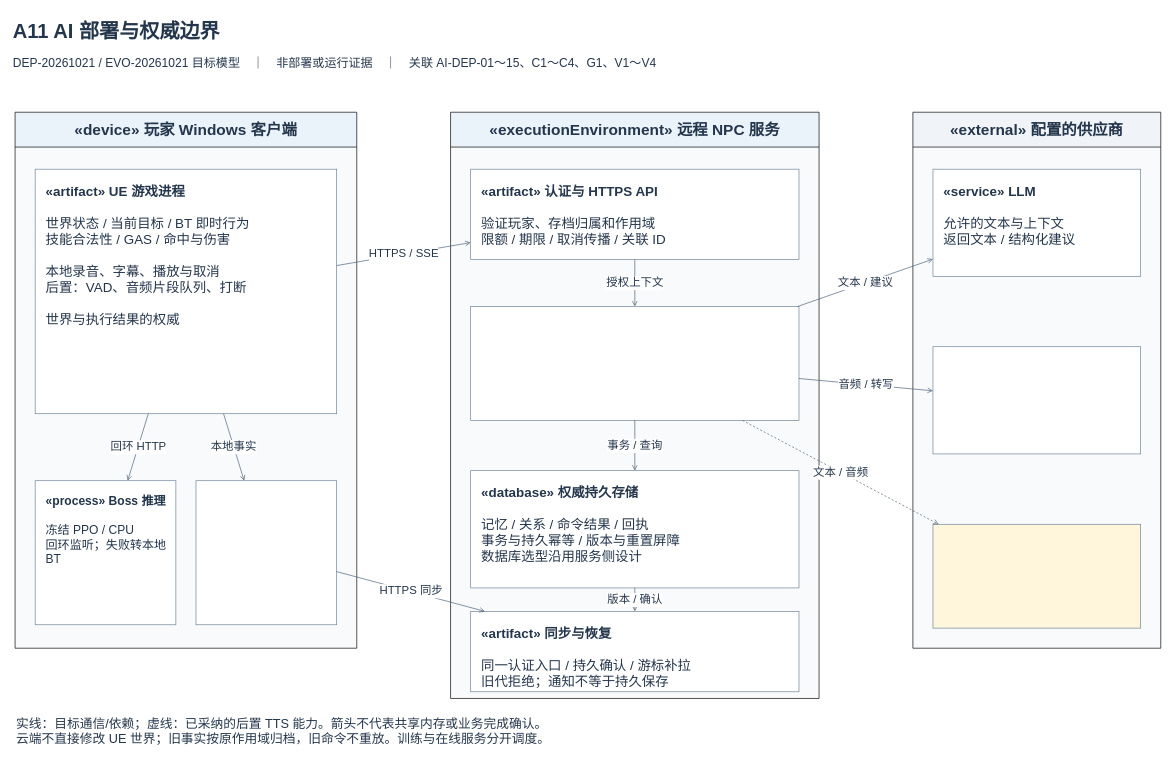
Image size: 1175x780. Some labels were removed from this diagram. Here are the shapes that lost their labels. From the top down, the box of each, then its label:
(470, 306, 799, 420): «artifact» NPC 编排 人格 / 会话队列 / 检索 / 高层建议 外部 LLM、ASR 及后置 TTS 适配 供应商密钥仅保留在服务器
(932, 346, 1141, 454): «service» ASR 必要音频 → 转写 最终转写进入原校验
(195, 480, 337, 625): «artifact» 本地缓存 玩家 / 档 / 角色分区 版本与真实事实队列 持久确认后移出
(932, 524, 1141, 628): «service» 后置 TTS 确认文本 → 音频片段 失败保留字幕
